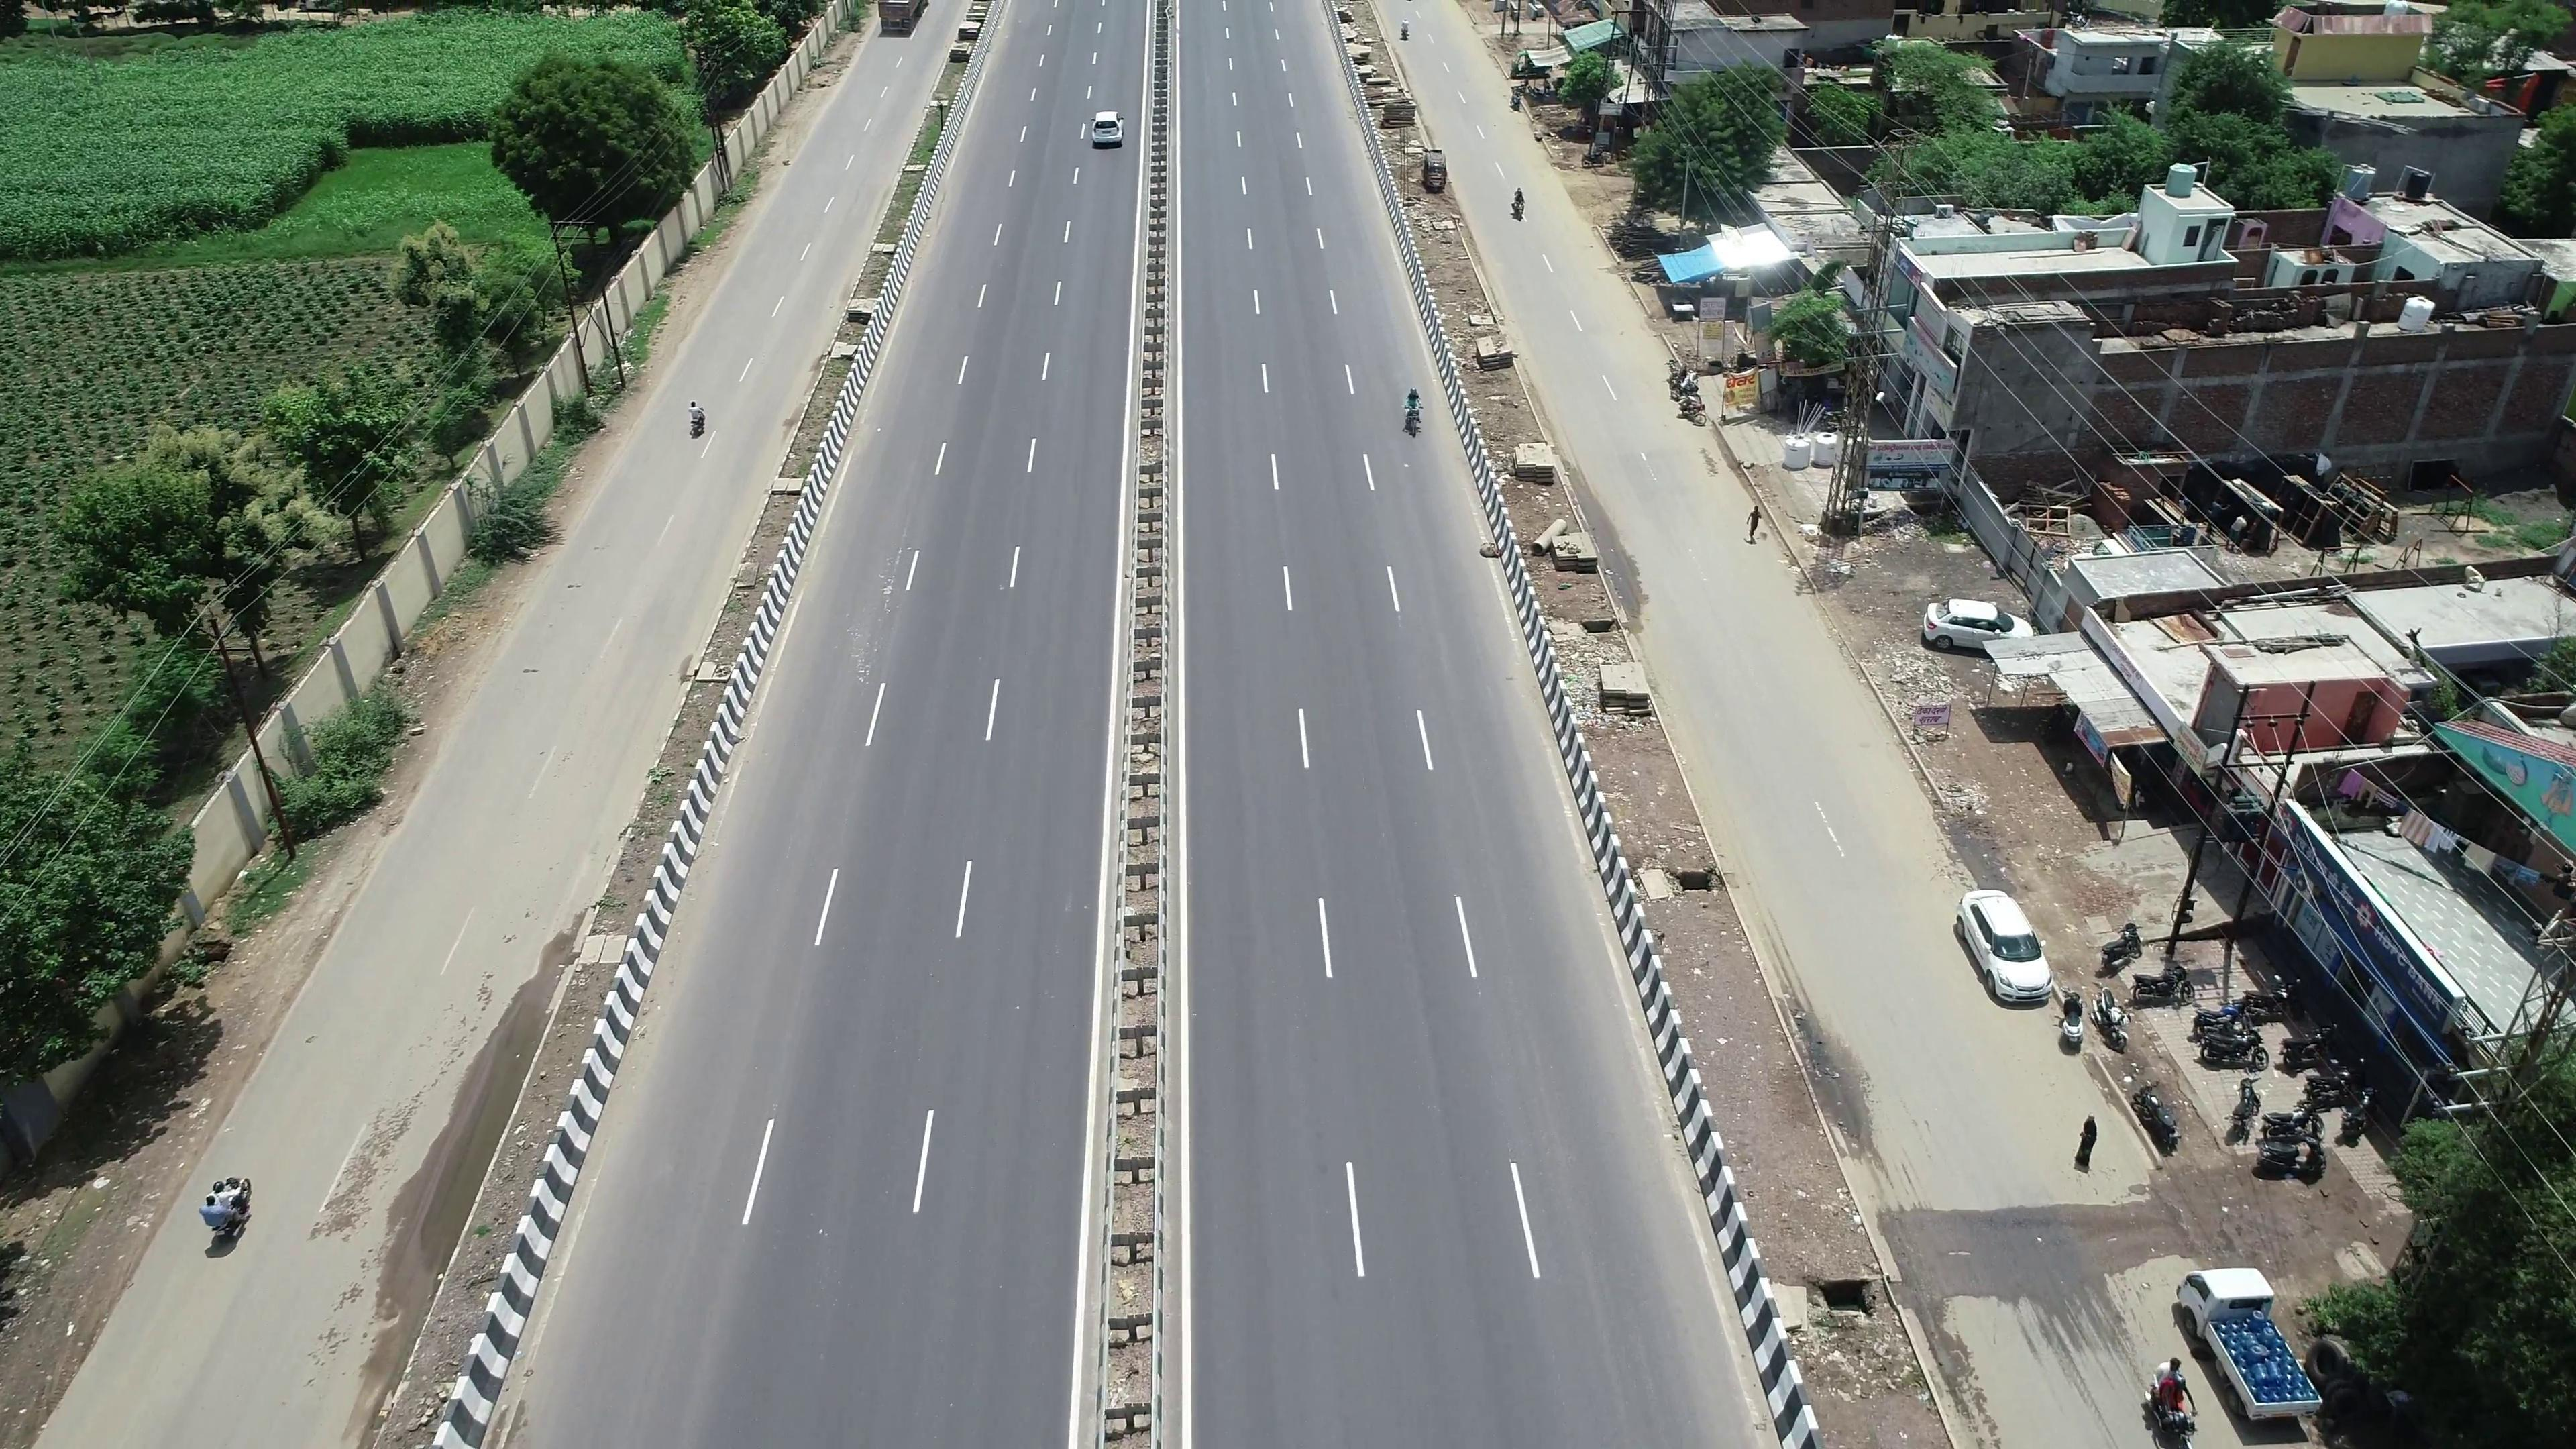Waterlogging: (402, 952, 547, 1263)
